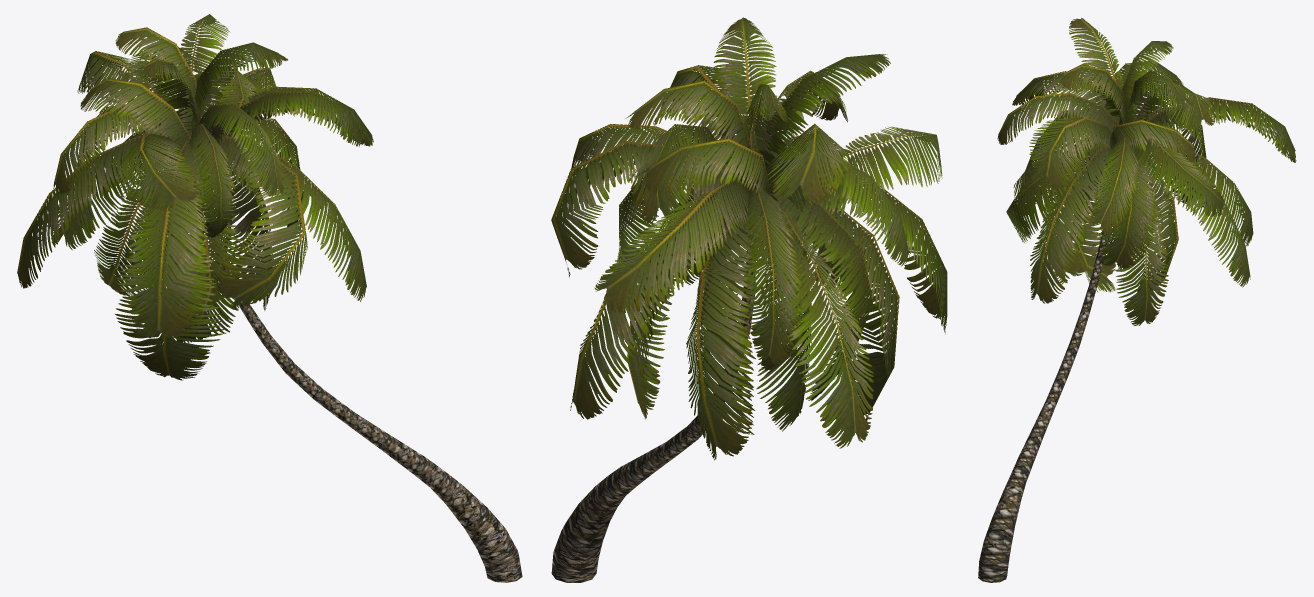
The model's file is tree_palm_tropical_02.dae.
The picture shows the model from 3 angles, left to right: view 1: azimuth 30°, elevation 25°; view 2: azimuth 150°, elevation 25°; view 3: azimuth 270°, elevation 25°; orthographic projection. The views are drawn at different scales.
Parts seen in each view (by area): view 1: palm_bend; view 2: palm_bend; view 3: palm_bend.
Boxes of the visible parts, x1,y1,x2,y2 form: palm_bend: (17,14,522,582); palm_bend: (551,17,947,582); palm_bend: (978,18,1296,582).
Size of the model in its own units: 14.15 by 19.17 by 12.74.
